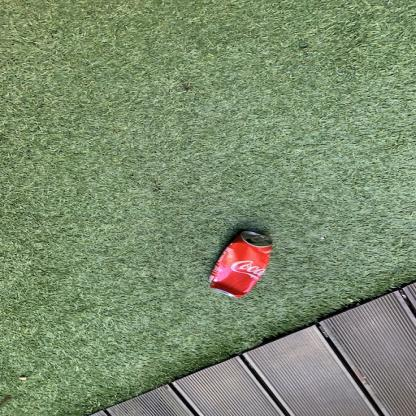trash: (206, 230, 277, 298)
